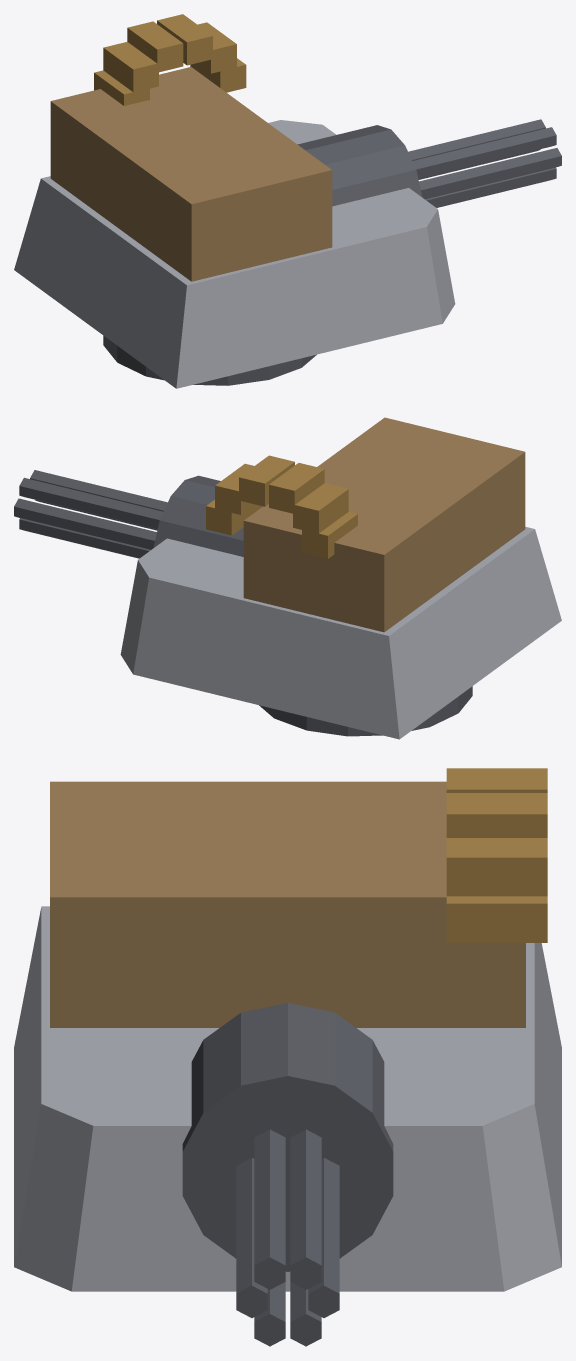
Rendered from vge_compact_minigun_player.obj.
3 renders of one model, top to bottom at view 1: azimuth 30°, elevation 25°; view 2: azimuth 150°, elevation 25°; view 3: azimuth 270°, elevation 25°, orthographic. The views are drawn at different scales.
Parts seen in each view (by area): view 1: vge_compact_minigun_player_1, vge_compact_minigun_player_2, vge_compact_minigun_player_9, vge_compact_minigun_player_12, vge_compact_minigun_player_13, vge_compact_minigun_player_7, vge_compact_minigun_player_0, vge_compact_minigun_player_6, vge_compact_minigun_player_5, vge_compact_minigun_player_14, vge_compact_minigun_player_11, vge_compact_minigun_player_4 (+2 smaller); view 2: vge_compact_minigun_player_1, vge_compact_minigun_player_2, vge_compact_minigun_player_9, vge_compact_minigun_player_11, vge_compact_minigun_player_10, vge_compact_minigun_player_7, vge_compact_minigun_player_0, vge_compact_minigun_player_6, vge_compact_minigun_player_5, vge_compact_minigun_player_15, vge_compact_minigun_player_12, vge_compact_minigun_player_8 (+2 smaller); view 3: vge_compact_minigun_player_2, vge_compact_minigun_player_1, vge_compact_minigun_player_9, vge_compact_minigun_player_4, vge_compact_minigun_player_11, vge_compact_minigun_player_12, vge_compact_minigun_player_3, vge_compact_minigun_player_5, vge_compact_minigun_player_10, vge_compact_minigun_player_13, vge_compact_minigun_player_6, vge_compact_minigun_player_14 (+1 smaller).
Boxes of the visible parts, x1,y1,x2,y2 form: vge_compact_minigun_player_1: (14,120,455,388); vge_compact_minigun_player_2: (50,67,332,281); vge_compact_minigun_player_9: (297,125,422,206); vge_compact_minigun_player_12: (412,127,556,178); vge_compact_minigun_player_13: (419,148,561,199); vge_compact_minigun_player_7: (103,42,158,92); vge_compact_minigun_player_0: (103,335,316,385); vge_compact_minigun_player_6: (127,21,183,72); vge_compact_minigun_player_5: (157,14,212,65); vge_compact_minigun_player_14: (425,167,556,207); vge_compact_minigun_player_11: (408,119,545,160); vge_compact_minigun_player_4: (197,22,236,73); vge_compact_minigun_player_1: (120,526,561,739); vge_compact_minigun_player_2: (243,417,525,632); vge_compact_minigun_player_9: (153,475,262,556); vge_compact_minigun_player_11: (19,477,163,529); vge_compact_minigun_player_10: (14,498,156,549); vge_compact_minigun_player_7: (293,483,348,533); vge_compact_minigun_player_0: (259,686,472,736); vge_compact_minigun_player_6: (269,463,324,513); vge_compact_minigun_player_5: (239,455,294,506); vge_compact_minigun_player_15: (19,518,150,558); vge_compact_minigun_player_12: (30,470,167,511); vge_compact_minigun_player_8: (302,512,357,558); vge_compact_minigun_player_2: (50,781,525,1027); vge_compact_minigun_player_1: (14,906,561,1291); vge_compact_minigun_player_9: (182,1003,393,1271); vge_compact_minigun_player_4: (446,838,547,896); vge_compact_minigun_player_11: (290,1129,321,1289); vge_compact_minigun_player_12: (254,1129,285,1289); vge_compact_minigun_player_3: (446,896,547,942); vge_compact_minigun_player_5: (446,793,547,837); vge_compact_minigun_player_10: (308,1158,339,1317); vge_compact_minigun_player_13: (236,1158,267,1317); vge_compact_minigun_player_6: (446,768,547,792); vge_compact_minigun_player_14: (254,1282,285,1346).
Size of the model in its own units: 1.22 by 0.6651 by 0.76.
